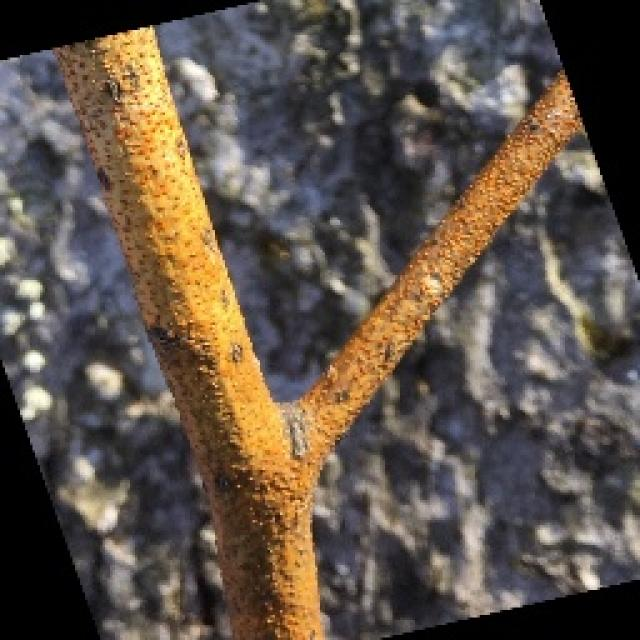Golden_canker: (57, 37, 591, 640)
